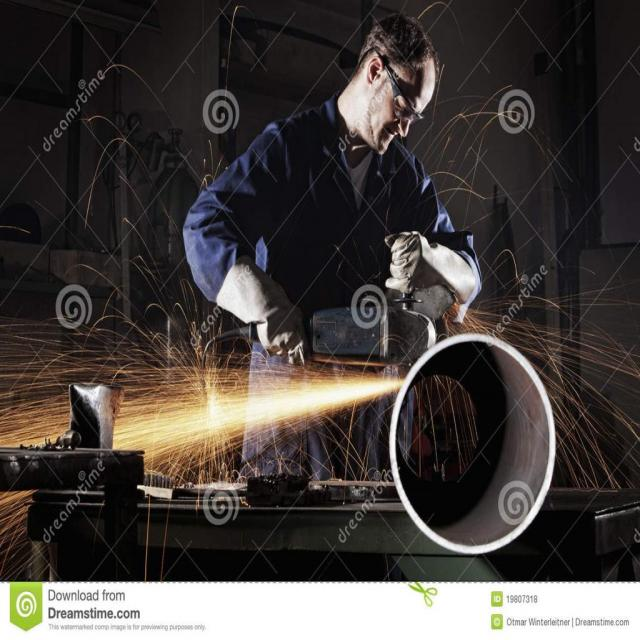nomask: (377, 58, 432, 156)
